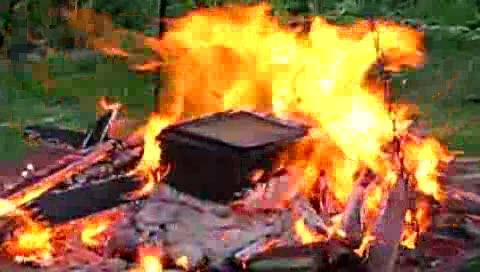fire: (161, 27, 400, 150)
